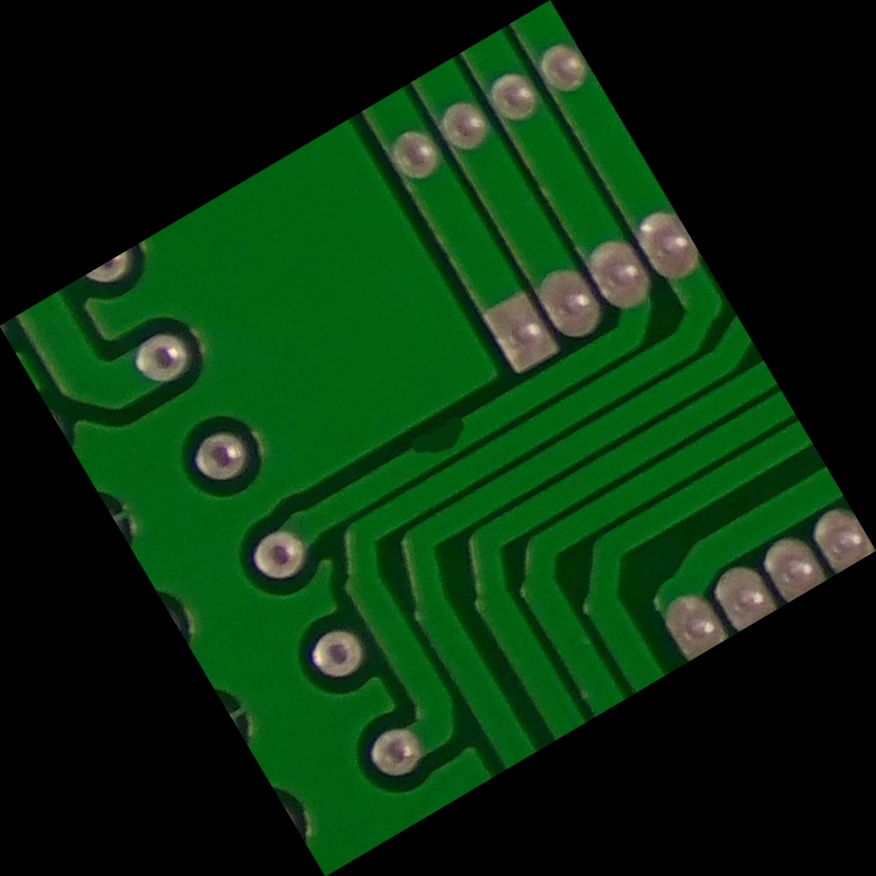mouse_bite: (385, 391, 493, 486)
